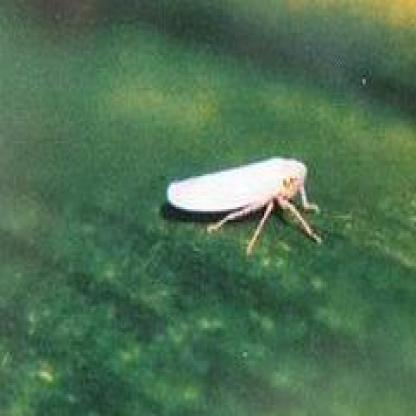Green-Leafhopper: (167, 143, 328, 242)
